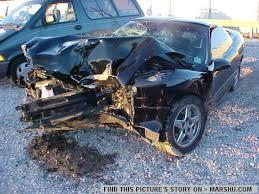Bonnet: (39, 34, 183, 90)
Bumper: (18, 80, 138, 139)
